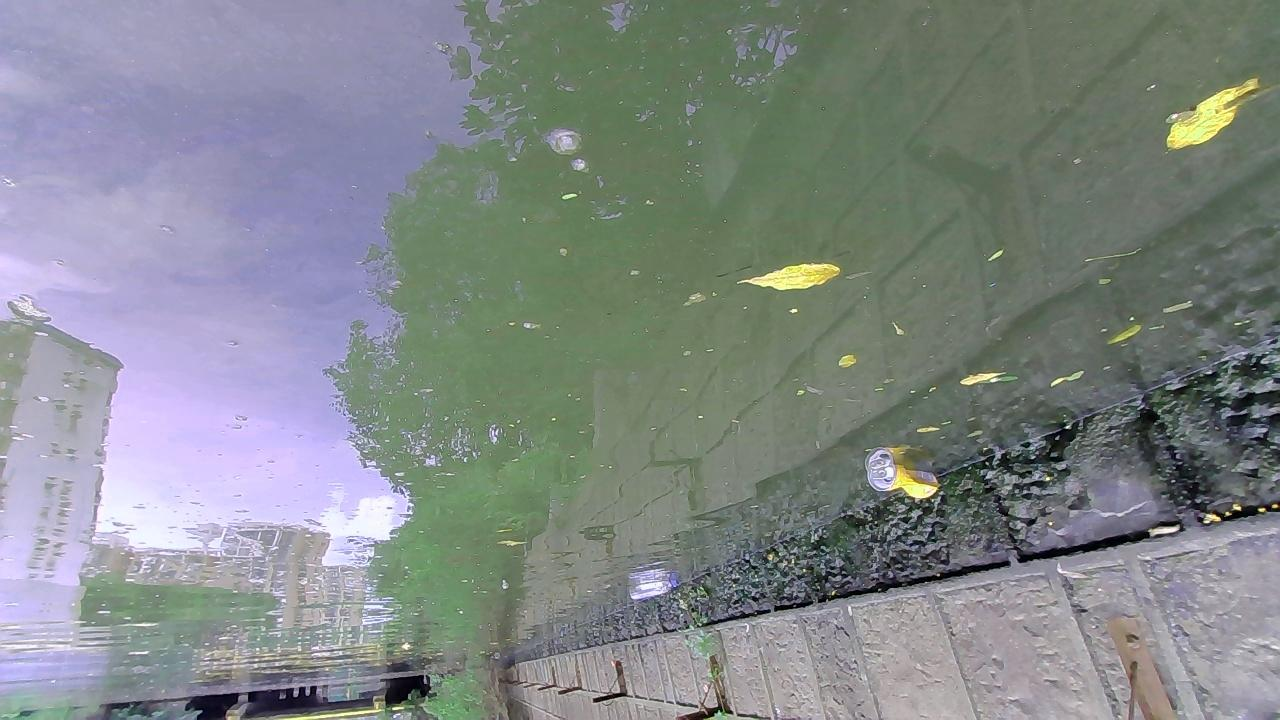Metal: (866, 465, 940, 500)
Plastic: (628, 579, 679, 600)
